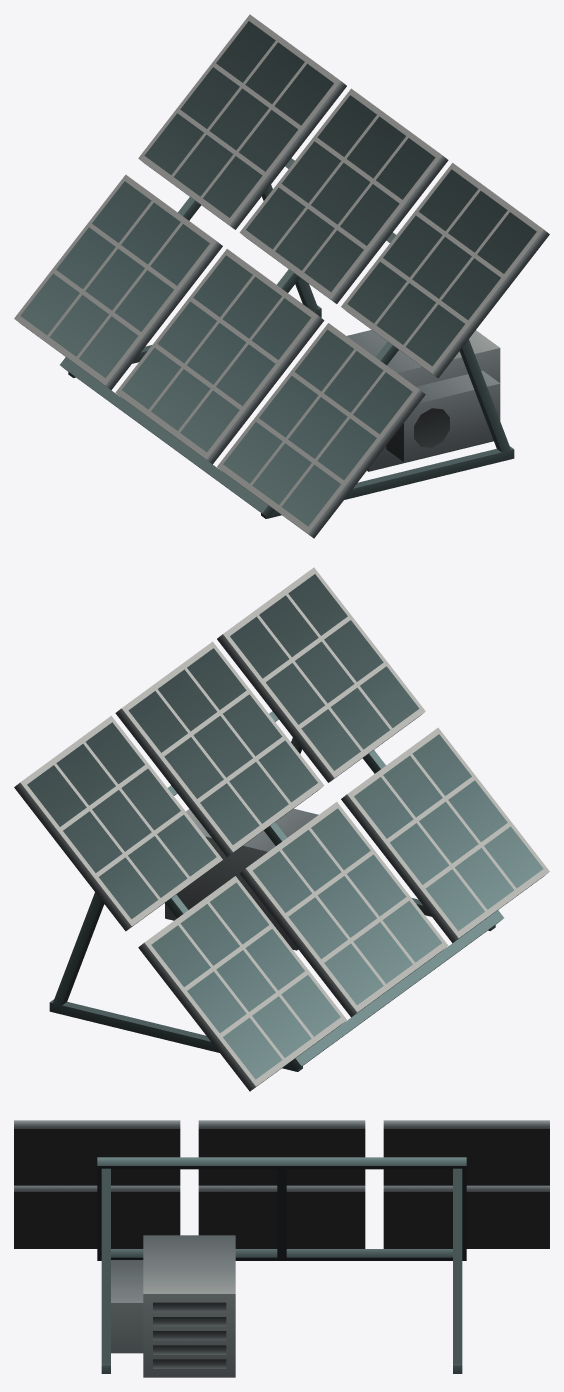
File: Solar_Panels_1A.fbx
3 renders of one model, top to bottom at view 1: azimuth 30°, elevation 25°; view 2: azimuth 150°, elevation 25°; view 3: azimuth 270°, elevation 25°, orthographic. The views are drawn at different scales.
Visible parts, largest first — view 1: Solar_Panels_1A; view 2: Solar_Panels_1A; view 3: Solar_Panels_1A.
Part boxes in pixels (x1,y1,x2,y2): Solar_Panels_1A: (14,14,549,538); Solar_Panels_1A: (14,567,549,1091); Solar_Panels_1A: (14,1120,549,1377).
Bounding box in the file's own units: 420 × 410 × 812.
